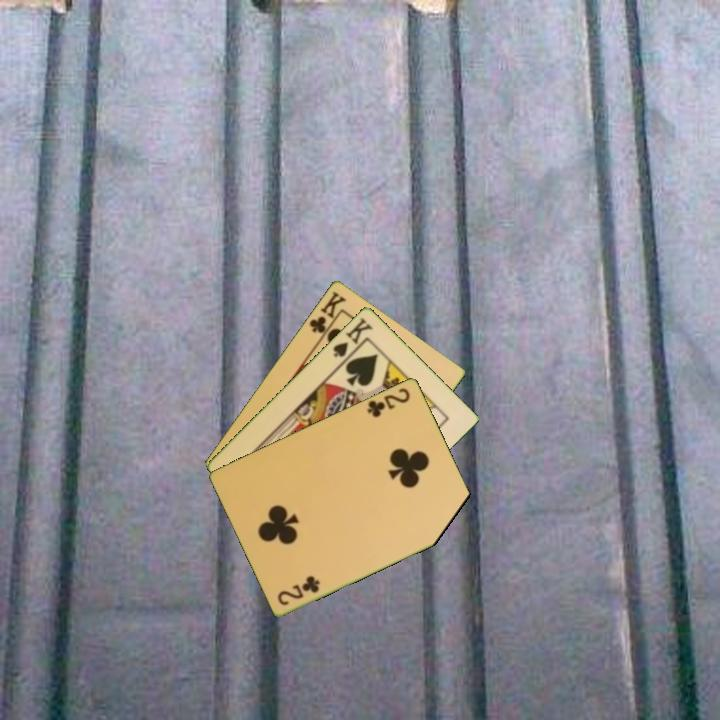2c: (363, 384, 413, 420), (274, 572, 323, 608)
Kc: (305, 287, 349, 342)
Ks: (329, 314, 376, 365)
